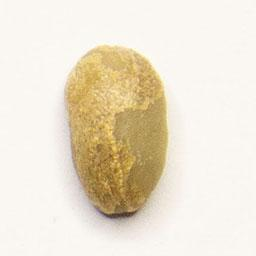longberry: (59, 41, 172, 221)
